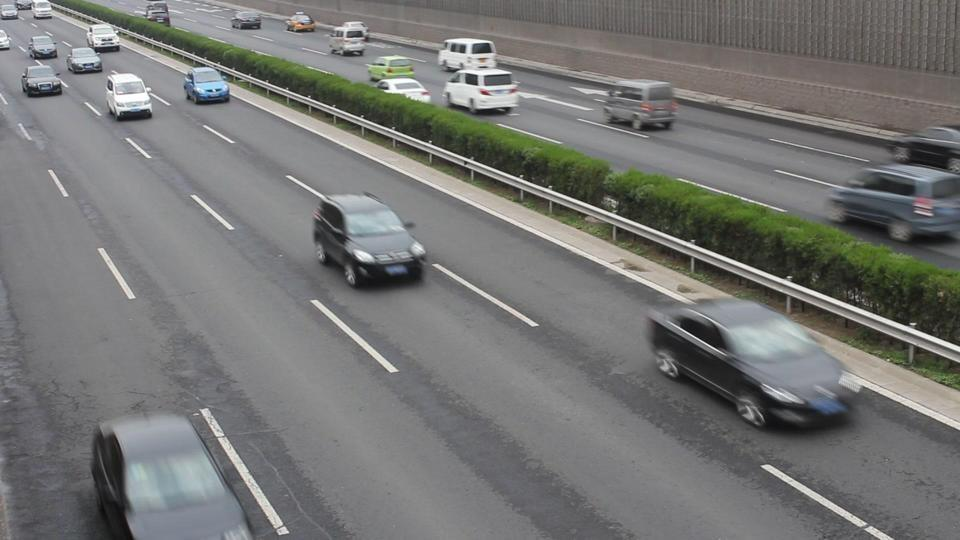car: (641, 296, 859, 432), (90, 406, 268, 539), (310, 191, 427, 288), (825, 162, 960, 243), (443, 67, 518, 117), (889, 126, 960, 174), (104, 72, 154, 121), (182, 65, 229, 105), (328, 21, 370, 57), (376, 77, 432, 103), (21, 65, 64, 96), (66, 46, 103, 75), (86, 24, 121, 53), (29, 34, 58, 60), (285, 11, 318, 32), (32, 1, 52, 19), (0, 2, 17, 20), (0, 30, 12, 50)
